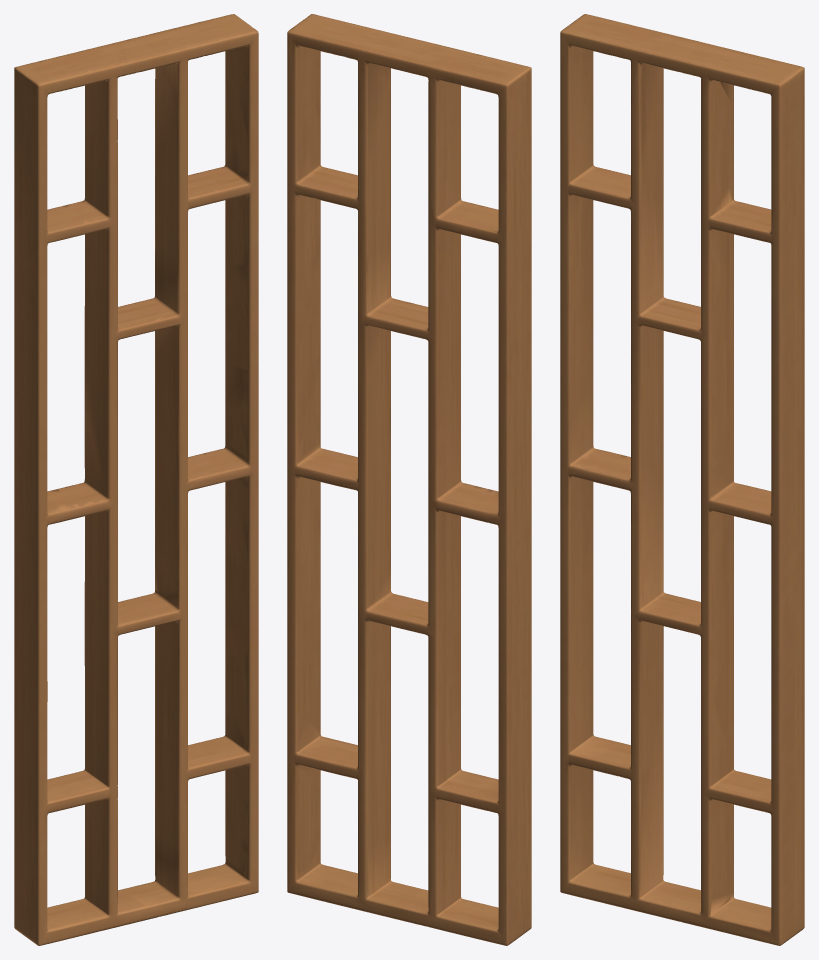
The model's file is 2BKjbRcPZKR12a2tvaNB-.glb.
3 renders of one model, left to right at view 1: azimuth 30°, elevation 25°; view 2: azimuth 150°, elevation 25°; view 3: azimuth 330°, elevation 25°, orthographic.
Visible parts, largest first — view 1: geometry_0; view 2: geometry_0; view 3: geometry_0.
Boxes of the visible parts, box(x1,y1,x2,y2) form: geometry_0: box(14, 14, 258, 945); geometry_0: box(287, 14, 531, 945); geometry_0: box(560, 14, 804, 945).
Size of the model in its own units: 0.2695 by 1 by 0.0538.
Materials: 1 (1 with a texture image).
